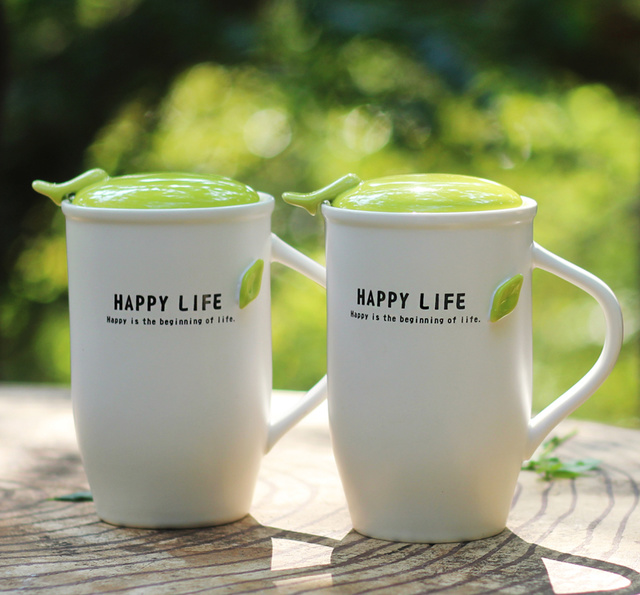cup: (280, 175, 626, 543), (31, 167, 357, 530)
